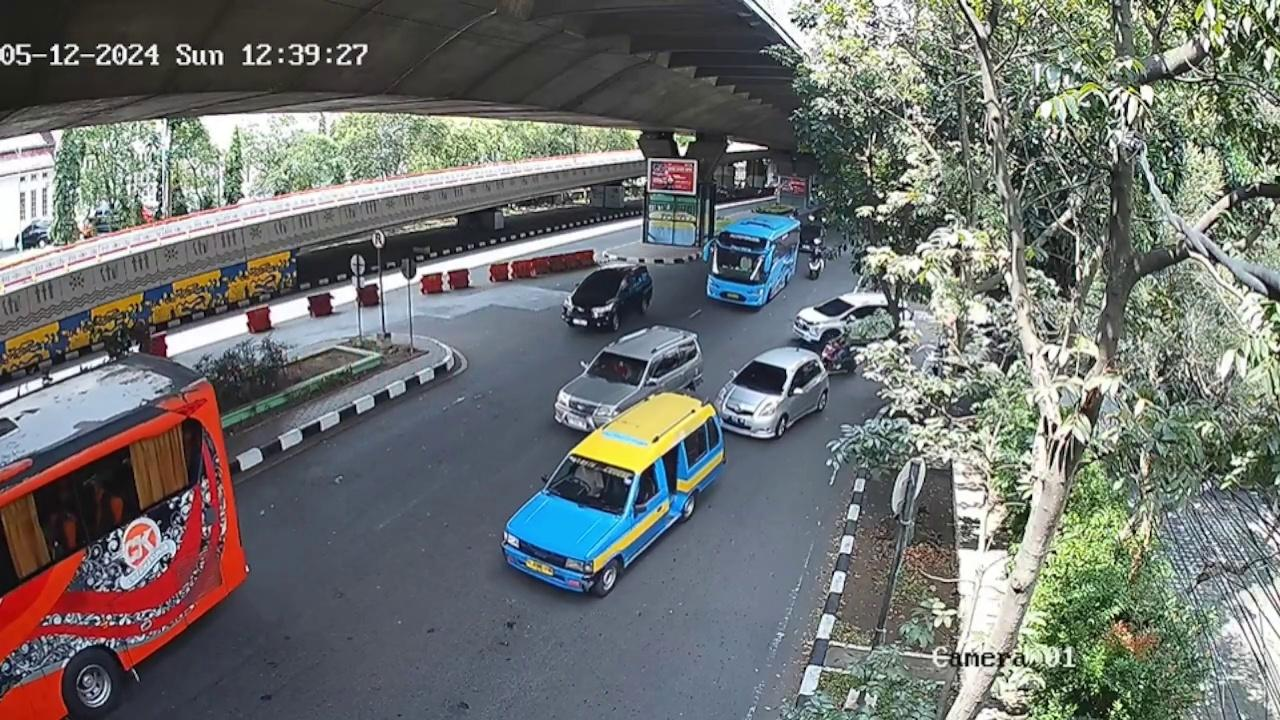tidak-pakai: (574, 464, 605, 501)
windshield: (544, 454, 635, 514), (731, 362, 792, 397), (586, 352, 646, 387)
